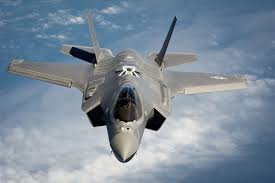fighter: (7, 9, 250, 166)
